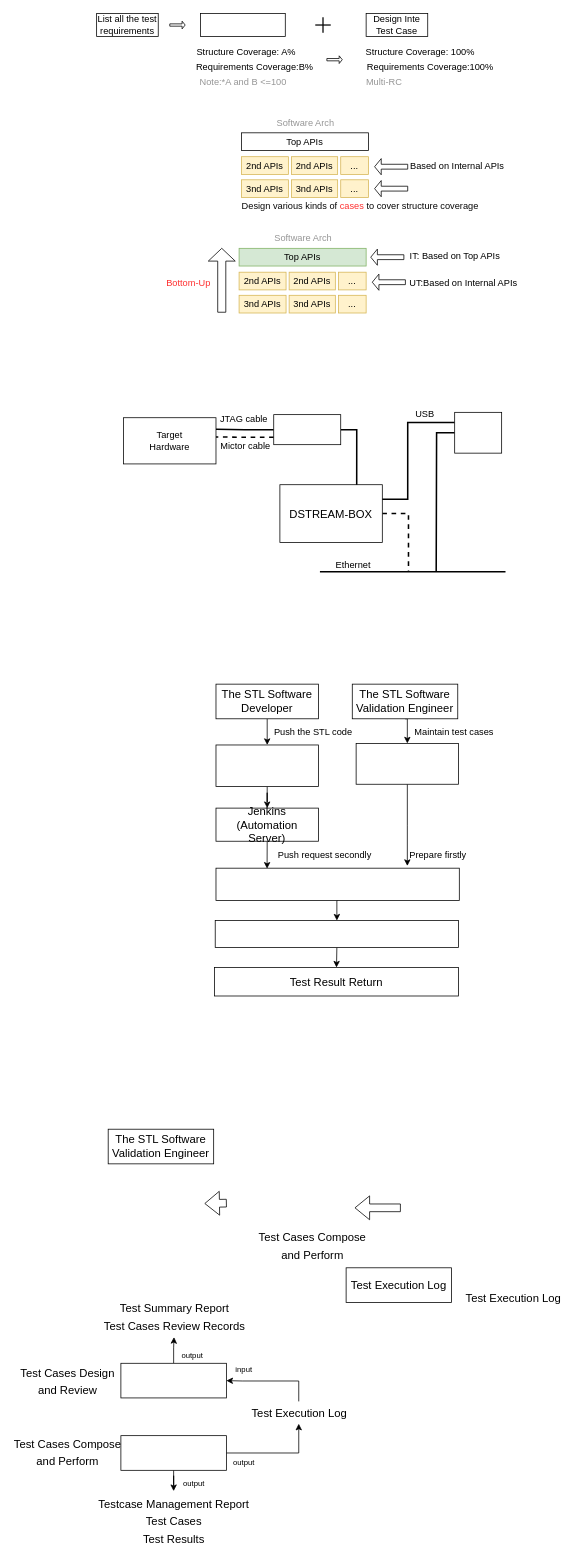
Some shapes in this 574 by 1565 pixel diagram are drawn without their labels. Each missing label, with the centre of its shape:
Debug/trace probe: the point at 307,429
Design Unit Test Case: the point at 242,25
Gerrit (The STL Code Repositories): the point at 266,765
Maintain the STL test cases: the point at 407,763
PC: the point at 478,432
TCM tool: the point at 173,1380
Test Cases Regression: the point at 336,933
The VectorCAST test environment (Build new STL test harness): the point at 337,884
VectorCAST tool: the point at 173,1452
